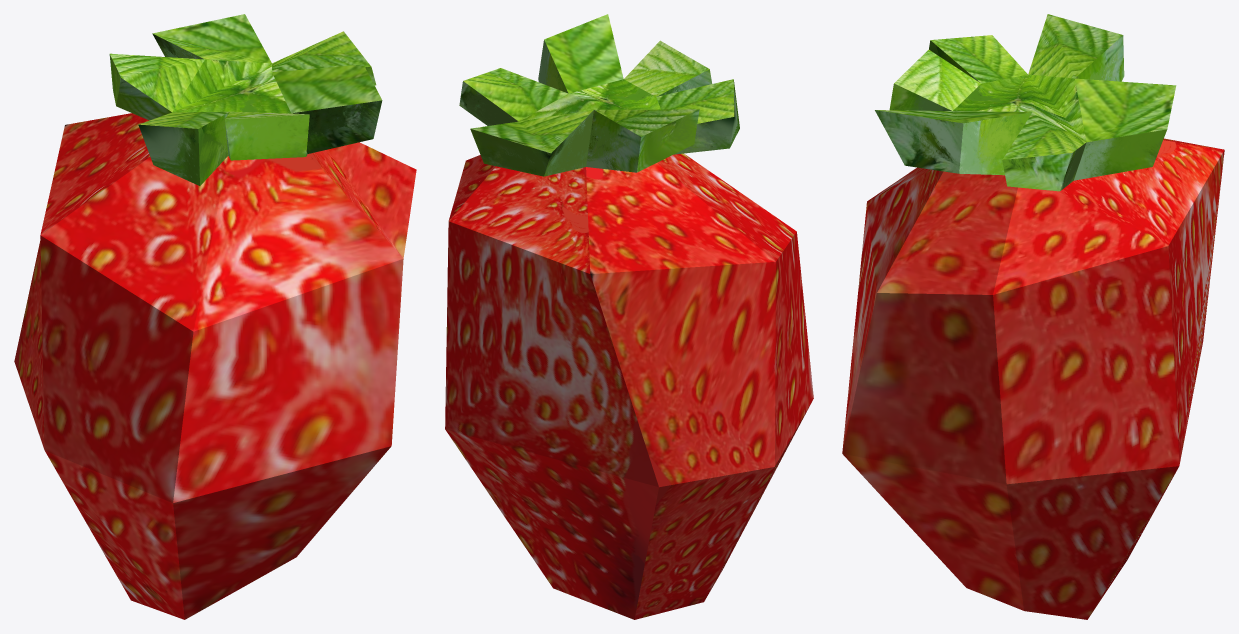
File: normalstrwberry.fbx
The picture shows the model from 3 angles, left to right: view 1: azimuth 30°, elevation 25°; view 2: azimuth 150°, elevation 25°; view 3: azimuth 270°, elevation 25°; orthographic projection. The views are drawn at different scales.
Parts seen in each view (by area): view 1: strawberry; view 2: strawberry; view 3: strawberry.
Part boxes in pixels (bbox=[...]): strawberry: bbox=[14, 14, 416, 619]; strawberry: bbox=[445, 14, 813, 619]; strawberry: bbox=[842, 14, 1224, 619].
Size of the model in its own units: 115 by 163 by 104.
1 material, 1 textured.
